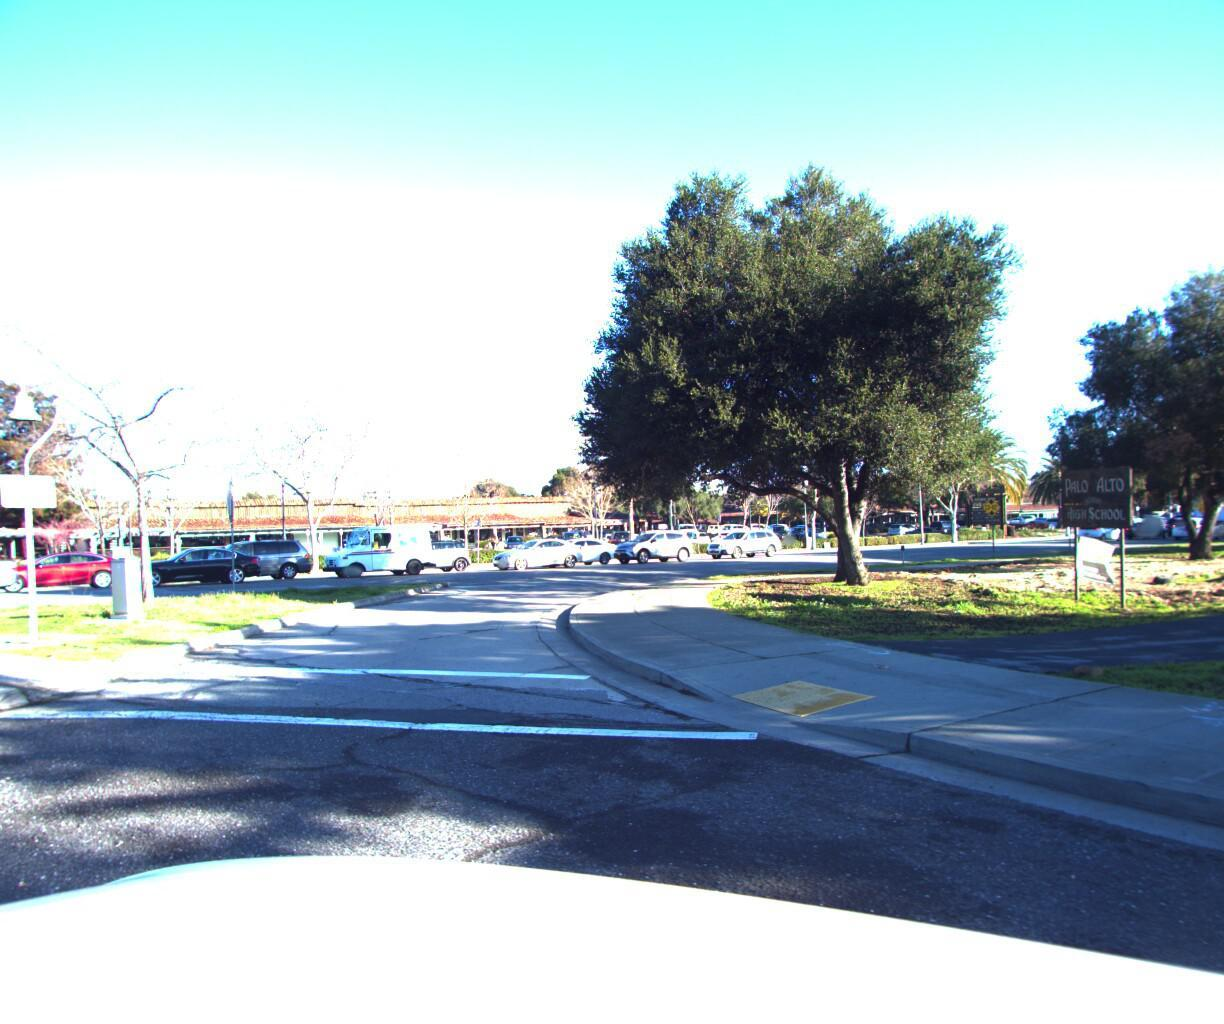car: (181, 531, 317, 579), (123, 537, 263, 582), (482, 530, 588, 566), (383, 534, 485, 570), (605, 523, 698, 559), (523, 531, 621, 564), (695, 522, 785, 555), (1165, 508, 1223, 534), (1068, 511, 1127, 536), (1117, 511, 1172, 534), (1209, 511, 1224, 531)
other_vehicle: (312, 517, 440, 576)
